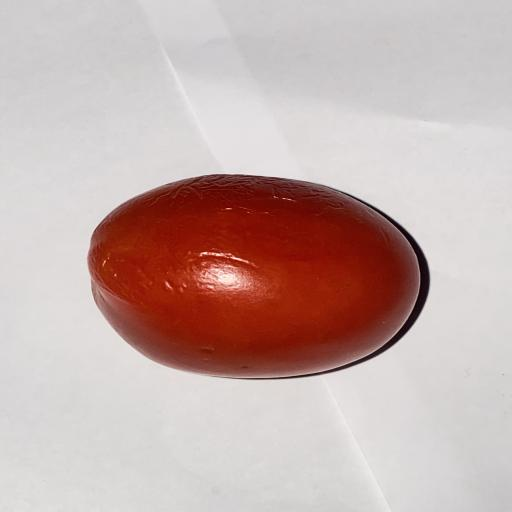overipe: (88, 175, 419, 377)
